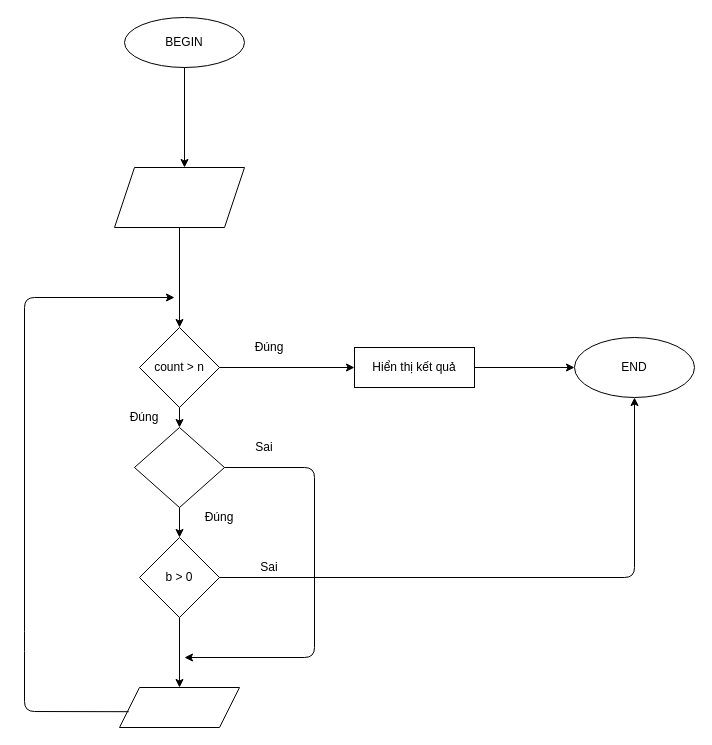
The diagram is 712 pixels wide and 745 high, and some of its shapes have lost their labels. Here are the shapes that lost their labels. From the top down, the centre of each, then its label:
At (x=179, y=197): "int a count=0 min =0".
At (x=179, y=467): "b =a[count]".
At (x=179, y=707): "count = count + 1".
